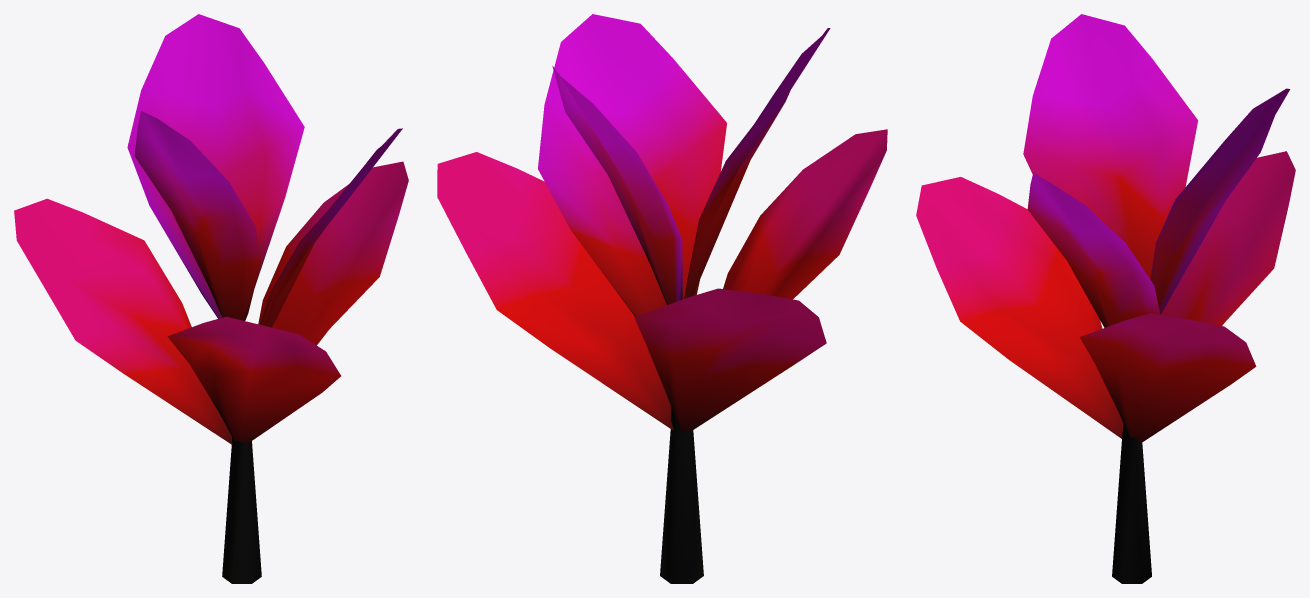
Rendered from Tree_Palmito_02.fbx.
3 views of the same model, side by side, from view 1: azimuth 30°, elevation 25°; view 2: azimuth 150°, elevation 25°; view 3: azimuth 270°, elevation 25° (orthographic). The views are drawn at different scales.
Visible parts, largest first — view 1: Palmito_02; view 2: Palmito_02; view 3: Palmito_02.
Part boxes in pixels (x1=…): Palmito_02: x1=14, y1=14, x2=408, y2=583; Palmito_02: x1=437, y1=14, x2=887, y2=583; Palmito_02: x1=916, y1=14, x2=1295, y2=583.
Size of the model in its own units: 194 by 261 by 177.
